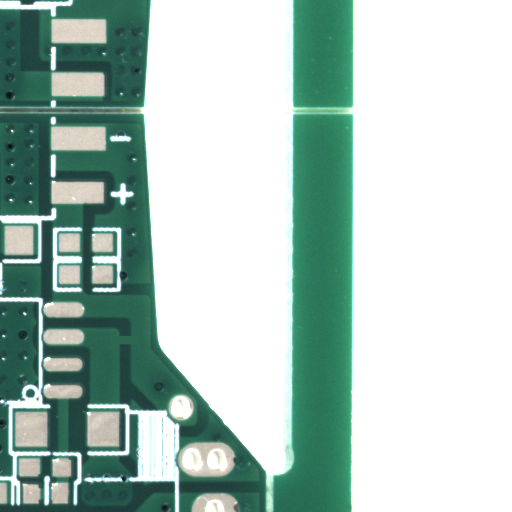Short: (124, 339, 145, 354)
